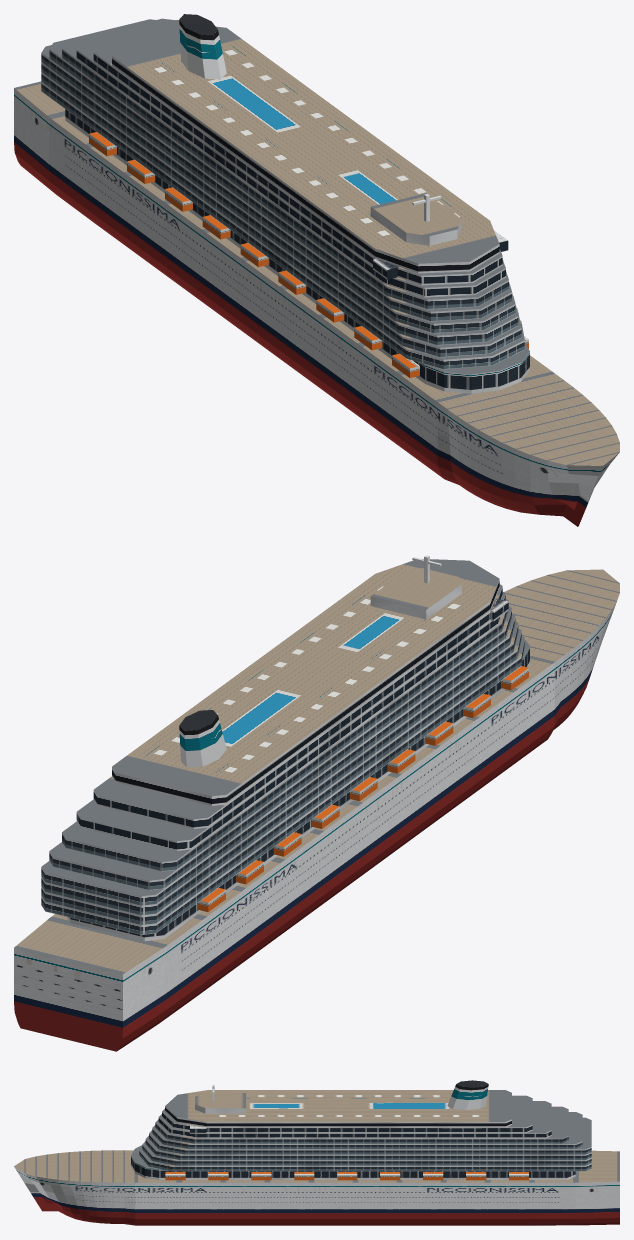
The model's file is SM_MoloItalia_NaveCrociera_v2_LOD2.fbx.
3 views of the same model, one above another, from view 1: azimuth 30°, elevation 25°; view 2: azimuth 150°, elevation 25°; view 3: azimuth 270°, elevation 25° (orthographic). The views are drawn at different scales.
Parts seen in each view (by area): view 1: SM_MoloItalia_NaveCrociera_v2_LOD2; view 2: SM_MoloItalia_NaveCrociera_v2_LOD2; view 3: SM_MoloItalia_NaveCrociera_v2_LOD2.
Boxes of the visible parts, x1,y1,x2,y2 form: SM_MoloItalia_NaveCrociera_v2_LOD2: [14, 14, 619, 526]; SM_MoloItalia_NaveCrociera_v2_LOD2: [14, 555, 619, 1051]; SM_MoloItalia_NaveCrociera_v2_LOD2: [14, 1080, 619, 1225].
Size of the model in its own units: 3920 by 30000 by 6950.
1 material, 1 textured.
